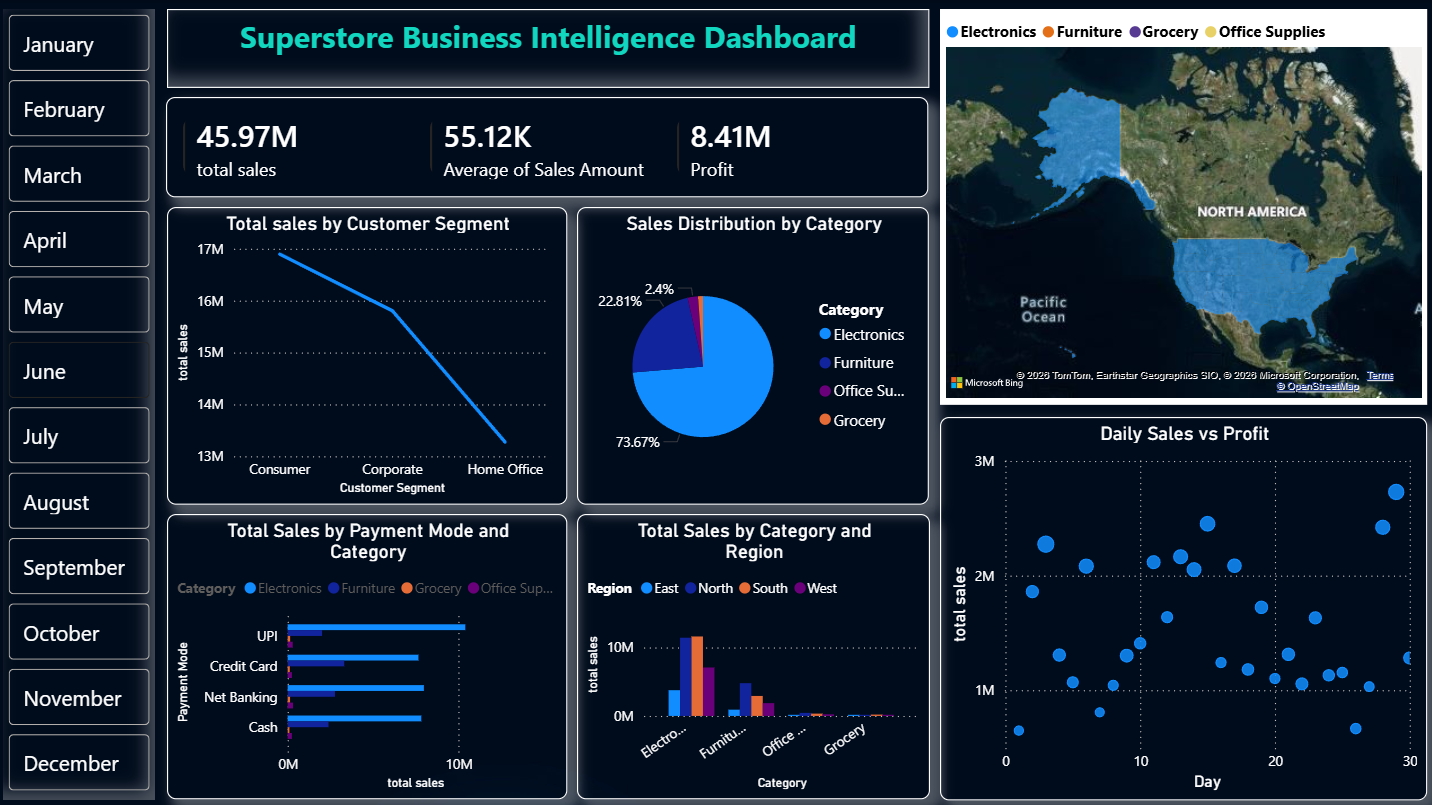

What the dashboard file says about the page in this screenshot:
{"tool":"powerbi","page":{"name":"Page 1","canvas":[1280,720],"ordinal":0},"visuals":[{"type":"textbox","box":[154.2,9.1,676.3,69.5],"z":0},{"type":"cardVisual","fields":{"Data":["calculated mesure.total sales","Avg(SuperStore_Management_System.Sales Amount)","calculated mesure.Profit"]},"box":[153.7,86.5,676.4,88.8],"z":1000},{"type":"advancedSlicerVisual","fields":{"Values":["SuperStore_Management_System.order Date.Variation.Date Hierarchy.Month"]},"box":[9.1,9.1,135.1,701.5],"z":2000},{"type":"filledMap","fields":{"Category":["SuperStore_Management_System.State"],"Series":["SuperStore_Management_System.Category"]},"box":[839.6,9.1,432.4,350.7],"z":3000},{"type":"lineChart","title":"Total sales by Customer Segment","fields":{"Category":["SuperStore_Management_System.Customer Segment"],"Y":["calculated mesure.total sales"]},"box":[154.2,184.4,354.8,264.1],"z":4000},{"type":"pieChart","title":"Sales Distribution by Category","fields":{"Category":["SuperStore_Management_System.Category"],"Y":["calculated mesure.total sales"]},"box":[518,184.4,312.4,264.1],"z":5000},{"type":"clusteredBarChart","title":"Total Sales by Payment Mode and Category","fields":{"Y":["calculated mesure.total sales"],"Category":["SuperStore_Management_System.Payment Mode"],"Series":["SuperStore_Management_System.Category"]},"box":[154,457.1,355.1,253.1],"z":6000},{"type":"clusteredColumnChart","title":"Total Sales by Category and Region","fields":{"Category":["SuperStore_Management_System.Category"],"Y":["calculated mesure.total sales"],"Series":["SuperStore_Management_System.Region"]},"box":[517.9,457.1,312.9,253.1],"z":7000},{"type":"scatterChart","title":"Daily Sales vs Profit","fields":{"Y":["calculated mesure.total sales"],"X":["SuperStore_Management_System.order Date.Variation.Date Hierarchy.Day"],"Size":["calculated mesure.Profit"]},"box":[839.5,370.9,432.5,340.1],"z":7001}]}

Visuals, with their boxes in screenshot pixels (x1, y1, x2, y2), scaled from the page's 1280x720 canvas onto the 1432x805 screenshot:
textbox: <bbox>173, 10, 929, 88</bbox>
cardVisual - calculated mesure.total sales x Avg(SuperStore_Management_System.Sales Amount): <bbox>172, 97, 929, 196</bbox>
advancedSlicerVisual - SuperStore_Management_System.order Date.Variation.Date Hierarchy.Month: <bbox>10, 10, 161, 794</bbox>
filledMap - SuperStore_Management_System.State x SuperStore_Management_System.Category: <bbox>939, 10, 1423, 402</bbox>
"Total sales by Customer Segment" lineChart: <bbox>173, 206, 569, 501</bbox>
"Sales Distribution by Category" pieChart: <bbox>580, 206, 929, 501</bbox>
"Total Sales by Payment Mode and Category" clusteredBarChart: <bbox>172, 511, 570, 794</bbox>
"Total Sales by Category and Region" clusteredColumnChart: <bbox>579, 511, 929, 794</bbox>
"Daily Sales vs Profit" scatterChart: <bbox>939, 415, 1423, 795</bbox>
